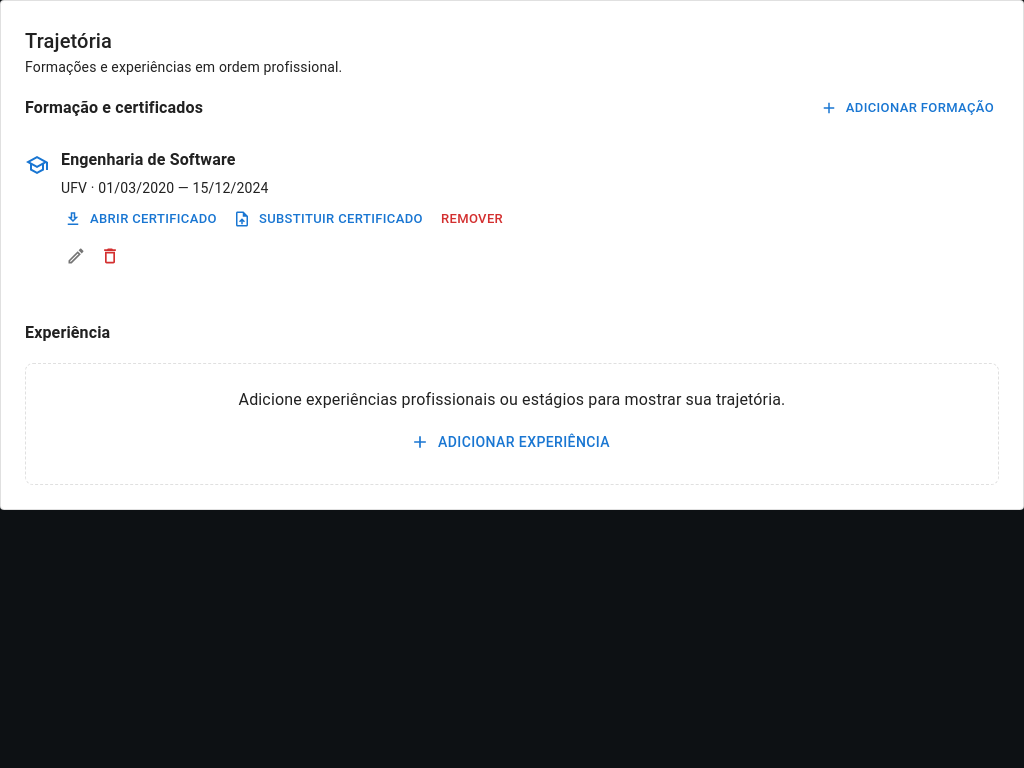
Test: TrajetoriaSection certificate › shows the API error when the certificate cannot be opened
Expected: the heading "Formação e certificados" is shown, [25,94,203,122]
Click the button "Abrir certificado": (142, 219) [61,204,222,235]
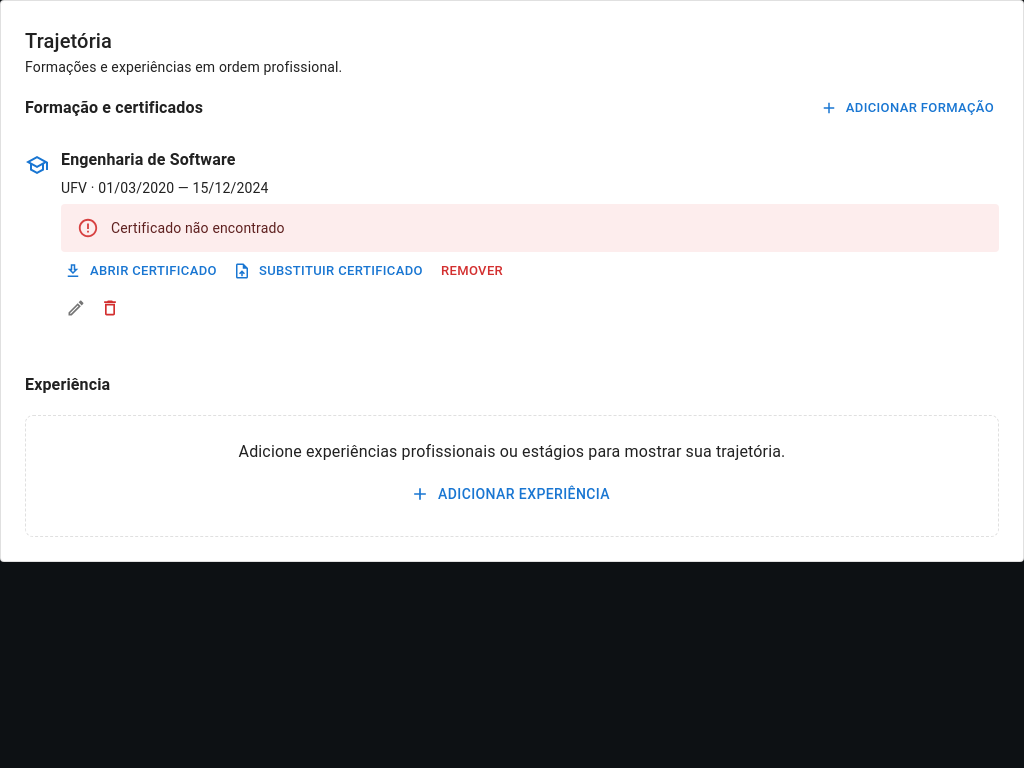
Expected: the button "Abrir certificado" is enabled, [61,256,222,287]
Now the message reads "Certificado não encontrado", box [111,220,285,236]
